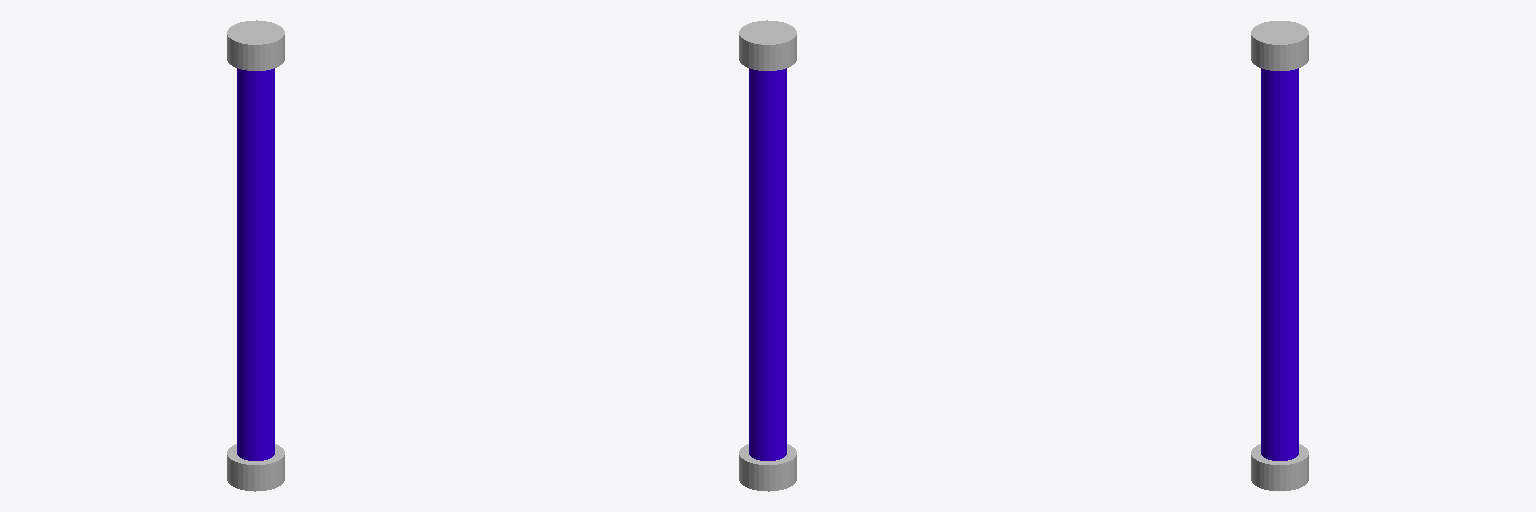
--- Facts derived from the render (not from the file) ---
The picture shows the robot from 3 angles, left to right: view 1: azimuth 30°, elevation 25°; view 2: azimuth 150°, elevation 25°; view 3: azimuth 270°, elevation 25°; orthographic projection.
Model soft_robot with 35 links and 34 joints (30 revolute, 4 fixed), rooted at base_link, posed all joints at 0.
Visible links, largest first — view 1: tip_link0, base_link; view 2: tip_link0, base_link; view 3: tip_link0, base_link.
Boxes of the visible links, x1,y1,x2,y2 form: tip_link0: [227, 20, 284, 70]; base_link: [227, 444, 284, 491]; tip_link0: [739, 20, 796, 70]; base_link: [739, 444, 796, 491]; tip_link0: [1251, 21, 1308, 70]; base_link: [1251, 444, 1308, 490].
Bounding box of the posed robot: 0.6 × 0.6 × 5.1 m (x, y, z).
Geometry: primitives only (box / cylinder / sphere), no mesh files.

The robot description file, URDF, robot "soft_robot":
<?xml version='1.0' encoding='utf-8'?>
<robot name="soft_robot">
  <link name="base_link">
    <visual>
      <origin rpy="0 0 0" xyz="0 0 0.15" />
      <geometry>
        <cylinder length="0.3" radius="0.3" />
      </geometry>
      <material name="grey">
        <color rgba="0.8 0.8 0.8 1" />
      </material>
    </visual>
    <collision>
      <origin rpy="0 0 0" xyz="0 0 0.15" />
      <geometry>
        <cylinder length="0.3" radius="0.3" />
      </geometry>
    </collision>
    <inertial>
      <mass value="0.1" />
      <inertia ixx="1" ixy="0" ixz="0" iyy="1" iyz="0" izz="1" />
      <origin rpy="0 0 0" xyz="0 0 0.15" />
    </inertial>
  </link>
  <link name="act0Seg0">
    <visual>
      <origin rpy="0 0 0" xyz="0 0 0.0375" />
      <geometry>
        <cylinder length="0.075" radius="0.2" />
      </geometry>
      <material name="blue">
        <color rgba="0.3 0.0 1 1.0" />
      </material>
    </visual>
    <collision>
      <origin rpy="0 0 0" xyz="0 0 0.0375" />
      <geometry>
        <cylinder length="0.075" radius="0.2" />
      </geometry>
    </collision>
    <inertial>
      <mass value="0.15" />
      <inertia ixx="1" ixy="0" ixz="0" iyy="1" iyz="0" izz="1" />
      <origin rpy="0 0 0" xyz="0 0 0.0375" />
    </inertial>
  </link>
  <joint name="base_link_to_act0Seg0" type="fixed">
    <parent link="base_link" />
    <child link="act0Seg0" />
    <origin rpy="0 0 0" xyz="0 0 0.3" />
    <axis xyz="1 0 0" />
  </joint>
  <link name="act0Seg1">
    <visual>
      <origin rpy="0 0 0" xyz="0 0 0.075" />
      <geometry>
        <cylinder length="0.15" radius="0.2" />
      </geometry>
      <material name="blue">
        <color rgba="0.3 0.0 1 1.0" />
      </material>
    </visual>
    <collision>
      <origin rpy="0 0 0" xyz="0 0 0.075" />
      <geometry>
        <cylinder length="0.15" radius="0.2" />
      </geometry>
    </collision>
    <inertial>
      <mass value="0.15" />
      <inertia ixx="1" ixy="0" ixz="0" iyy="1" iyz="0" izz="1" />
      <origin rpy="0 0 0" xyz="0 0 0.075" />
    </inertial>
  </link>
  <joint name="act0Seg0_to_act0Seg1_ax0" type="revolute">
    <parent link="act0Seg0" />
    <child link="act0Seg1" />
    <origin rpy="0 0 0" xyz="0 0 0.075" />
    <axis xyz="1 0 0" />
    <limit effort="100" lower="-3.141592" upper="3.141592" velocity="3" />
  </joint>
  <link name="act0Seg2">
    <visual>
      <origin rpy="0 0 0" xyz="0 0 0.075" />
      <geometry>
        <cylinder length="0.15" radius="0.2" />
      </geometry>
      <material name="blue">
        <color rgba="0.3 0.0 1 1.0" />
      </material>
    </visual>
    <collision>
      <origin rpy="0 0 0" xyz="0 0 0.075" />
      <geometry>
        <cylinder length="0.15" radius="0.2" />
      </geometry>
    </collision>
    <inertial>
      <mass value="0.15" />
      <inertia ixx="1" ixy="0" ixz="0" iyy="1" iyz="0" izz="1" />
      <origin rpy="0 0 0" xyz="0 0 0.075" />
    </inertial>
  </link>
  <joint name="act0Seg1_to_act0Seg2_ax1" type="revolute">
    <parent link="act0Seg1" />
    <child link="act0Seg2" />
    <origin rpy="0 0 0" xyz="0 0 0.15" />
    <axis xyz="0 1 0" />
    <limit effort="100" lower="-3.141592" upper="3.141592" velocity="3" />
  </joint>
  <link name="act0Seg3">
    <visual>
      <origin rpy="0 0 0" xyz="0 0 0.075" />
      <geometry>
        <cylinder length="0.15" radius="0.2" />
      </geometry>
      <material name="blue">
        <color rgba="0.3 0.0 1 1.0" />
      </material>
    </visual>
    <collision>
      <origin rpy="0 0 0" xyz="0 0 0.075" />
      <geometry>
        <cylinder length="0.15" radius="0.2" />
      </geometry>
    </collision>
    <inertial>
      <mass value="0.15" />
      <inertia ixx="1" ixy="0" ixz="0" iyy="1" iyz="0" izz="1" />
      <origin rpy="0 0 0" xyz="0 0 0.075" />
    </inertial>
  </link>
  <joint name="act0Seg2_to_act0Seg3_ax0" type="revolute">
    <parent link="act0Seg2" />
    <child link="act0Seg3" />
    <origin rpy="0 0 0" xyz="0 0 0.15" />
    <axis xyz="1 0 0" />
    <limit effort="100" lower="-3.141592" upper="3.141592" velocity="3" />
  </joint>
  <link name="act0Seg4">
    <visual>
      <origin rpy="0 0 0" xyz="0 0 0.075" />
      <geometry>
        <cylinder length="0.15" radius="0.2" />
      </geometry>
      <material name="blue">
        <color rgba="0.3 0.0 1 1.0" />
      </material>
    </visual>
    <collision>
      <origin rpy="0 0 0" xyz="0 0 0.075" />
      <geometry>
        <cylinder length="0.15" radius="0.2" />
      </geometry>
    </collision>
    <inertial>
      <mass value="0.15" />
      <inertia ixx="1" ixy="0" ixz="0" iyy="1" iyz="0" izz="1" />
      <origin rpy="0 0 0" xyz="0 0 0.075" />
    </inertial>
  </link>
  <joint name="act0Seg3_to_act0Seg4_ax1" type="revolute">
    <parent link="act0Seg3" />
    <child link="act0Seg4" />
    <origin rpy="0 0 0" xyz="0 0 0.15" />
    <axis xyz="0 1 0" />
    <limit effort="100" lower="-3.141592" upper="3.141592" velocity="3" />
  </joint>
  <link name="act0Seg5">
    <visual>
      <origin rpy="0 0 0" xyz="0 0 0.075" />
      <geometry>
        <cylinder length="0.15" radius="0.2" />
      </geometry>
      <material name="blue">
        <color rgba="0.3 0.0 1 1.0" />
      </material>
    </visual>
    <collision>
      <origin rpy="0 0 0" xyz="0 0 0.075" />
      <geometry>
        <cylinder length="0.15" radius="0.2" />
      </geometry>
    </collision>
    <inertial>
      <mass value="0.15" />
      <inertia ixx="1" ixy="0" ixz="0" iyy="1" iyz="0" izz="1" />
      <origin rpy="0 0 0" xyz="0 0 0.075" />
    </inertial>
  </link>
  <joint name="act0Seg4_to_act0Seg5_ax0" type="revolute">
    <parent link="act0Seg4" />
    <child link="act0Seg5" />
    <origin rpy="0 0 0" xyz="0 0 0.15" />
    <axis xyz="1 0 0" />
    <limit effort="100" lower="-3.141592" upper="3.141592" velocity="3" />
  </joint>
  <link name="act0Seg6">
    <visual>
      <origin rpy="0 0 0" xyz="0 0 0.075" />
      <geometry>
        <cylinder length="0.15" radius="0.2" />
      </geometry>
      <material name="blue">
        <color rgba="0.3 0.0 1 1.0" />
      </material>
    </visual>
    <collision>
      <origin rpy="0 0 0" xyz="0 0 0.075" />
      <geometry>
        <cylinder length="0.15" radius="0.2" />
      </geometry>
    </collision>
    <inertial>
      <mass value="0.15" />
      <inertia ixx="1" ixy="0" ixz="0" iyy="1" iyz="0" izz="1" />
      <origin rpy="0 0 0" xyz="0 0 0.075" />
    </inertial>
  </link>
  <joint name="act0Seg5_to_act0Seg6_ax1" type="revolute">
    <parent link="act0Seg5" />
    <child link="act0Seg6" />
    <origin rpy="0 0 0" xyz="0 0 0.15" />
    <axis xyz="0 1 0" />
    <limit effort="100" lower="-3.141592" upper="3.141592" velocity="3" />
  </joint>
  <link name="act0Seg7">
    <visual>
      <origin rpy="0 0 0" xyz="0 0 0.075" />
      <geometry>
        <cylinder length="0.15" radius="0.2" />
      </geometry>
      <material name="blue">
        <color rgba="0.3 0.0 1 1.0" />
      </material>
    </visual>
    <collision>
      <origin rpy="0 0 0" xyz="0 0 0.075" />
      <geometry>
        <cylinder length="0.15" radius="0.2" />
      </geometry>
    </collision>
    <inertial>
      <mass value="0.15" />
      <inertia ixx="1" ixy="0" ixz="0" iyy="1" iyz="0" izz="1" />
      <origin rpy="0 0 0" xyz="0 0 0.075" />
    </inertial>
  </link>
  <joint name="act0Seg6_to_act0Seg7_ax0" type="revolute">
    <parent link="act0Seg6" />
    <child link="act0Seg7" />
    <origin rpy="0 0 0" xyz="0 0 0.15" />
    <axis xyz="1 0 0" />
    <limit effort="100" lower="-3.141592" upper="3.141592" velocity="3" />
  </joint>
  <link name="act0Seg8">
    <visual>
      <origin rpy="0 0 0" xyz="0 0 0.075" />
      <geometry>
        <cylinder length="0.15" radius="0.2" />
      </geometry>
      <material name="blue">
        <color rgba="0.3 0.0 1 1.0" />
      </material>
    </visual>
    <collision>
      <origin rpy="0 0 0" xyz="0 0 0.075" />
      <geometry>
        <cylinder length="0.15" radius="0.2" />
      </geometry>
    </collision>
    <inertial>
      <mass value="0.15" />
      <inertia ixx="1" ixy="0" ixz="0" iyy="1" iyz="0" izz="1" />
      <origin rpy="0 0 0" xyz="0 0 0.075" />
    </inertial>
  </link>
  <joint name="act0Seg7_to_act0Seg8_ax1" type="revolute">
    <parent link="act0Seg7" />
    <child link="act0Seg8" />
    <origin rpy="0 0 0" xyz="0 0 0.15" />
    <axis xyz="0 1 0" />
    <limit effort="100" lower="-3.141592" upper="3.141592" velocity="3" />
  </joint>
  <link name="act0Seg9">
    <visual>
      <origin rpy="0 0 0" xyz="0 0 0.075" />
      <geometry>
        <cylinder length="0.15" radius="0.2" />
      </geometry>
      <material name="blue">
        <color rgba="0.3 0.0 1 1.0" />
      </material>
    </visual>
    <collision>
      <origin rpy="0 0 0" xyz="0 0 0.075" />
      <geometry>
        <cylinder length="0.15" radius="0.2" />
      </geometry>
    </collision>
    <inertial>
      <mass value="0.15" />
      <inertia ixx="1" ixy="0" ixz="0" iyy="1" iyz="0" izz="1" />
      <origin rpy="0 0 0" xyz="0 0 0.075" />
    </inertial>
  </link>
  <joint name="act0Seg8_to_act0Seg9_ax0" type="revolute">
    <parent link="act0Seg8" />
    <child link="act0Seg9" />
    <origin rpy="0 0 0" xyz="0 0 0.15" />
    <axis xyz="1 0 0" />
    <limit effort="100" lower="-3.141592" upper="3.141592" velocity="3" />
  </joint>
  <link name="act0Seg10">
    <visual>
      <origin rpy="0 0 0" xyz="0 0 0.0375" />
      <geometry>
        <cylinder length="0.075" radius="0.2" />
      </geometry>
      <material name="blue">
        <color rgba="0.3 0.0 1 1.0" />
      </material>
    </visual>
    <collision>
      <origin rpy="0 0 0" xyz="0 0 0.0375" />
      <geometry>
        <cylinder length="0.075" radius="0.2" />
      </geometry>
    </collision>
    <inertial>
      <mass value="0.15" />
      <inertia ixx="1" ixy="0" ixz="0" iyy="1" iyz="0" izz="1" />
      <origin rpy="0 0 0" xyz="0 0 0.0375" />
    </inertial>
  </link>
  <joint name="act0Seg9_to_act0Seg10_ax1" type="revolute">
    <parent link="act0Seg9" />
    <child link="act0Seg10" />
    <origin rpy="0 0 0" xyz="0 0 0.15" />
    <axis xyz="0 1 0" />
    <limit effort="100" lower="-3.141592" upper="3.141592" velocity="3" />
  </joint>
  <link name="act1Seg0">
    <visual>
      <origin rpy="0 0 0" xyz="0 0 0.0375" />
      <geometry>
        <cylinder length="0.075" radius="0.2" />
      </geometry>
      <material name="red">
        <color rgba="0.3 0.0 1 1.0" />
      </material>
    </visual>
    <collision>
      <origin rpy="0 0 0" xyz="0 0 0.0375" />
      <geometry>
        <cylinder length="0.075" radius="0.2" />
      </geometry>
    </collision>
    <inertial>
      <mass value="0.15" />
      <inertia ixx="1" ixy="0" ixz="0" iyy="1" iyz="0" izz="1" />
      <origin rpy="0 0 0" xyz="0 0 0.0375" />
    </inertial>
  </link>
  <joint name="act0Seg10_to_act1Seg0_ax1" type="fixed">
    <parent link="act0Seg10" />
    <child link="act1Seg0" />
    <origin rpy="0 0 0" xyz="0 0 0.075" />
    <axis xyz="0 1 0" />
    <limit effort="100" lower="-3.141592" upper="3.141592" velocity="3" />
  </joint>
  <link name="act1Seg1">
    <visual>
      <origin rpy="0 0 0" xyz="0 0 0.075" />
      <geometry>
        <cylinder length="0.15" radius="0.2" />
      </geometry>
      <material name="red">
        <color rgba="0.3 0.0 1 1.0" />
      </material>
    </visual>
    <collision>
      <origin rpy="0 0 0" xyz="0 0 0.075" />
      <geometry>
        <cylinder length="0.15" radius="0.2" />
      </geometry>
    </collision>
    <inertial>
      <mass value="0.15" />
      <inertia ixx="1" ixy="0" ixz="0" iyy="1" iyz="0" izz="1" />
      <origin rpy="0 0 0" xyz="0 0 0.075" />
    </inertial>
  </link>
  <joint name="act1Seg0_to_act1Seg1_ax0" type="revolute">
    <parent link="act1Seg0" />
    <child link="act1Seg1" />
    <origin rpy="0 0 0" xyz="0 0 0.075" />
    <axis xyz="1 0 0" />
    <limit effort="100" lower="-3.141592" upper="3.141592" velocity="3" />
  </joint>
  <link name="act1Seg2">
    <visual>
      <origin rpy="0 0 0" xyz="0 0 0.075" />
      <geometry>
        <cylinder length="0.15" radius="0.2" />
      </geometry>
      <material name="red">
        <color rgba="0.3 0.0 1 1.0" />
      </material>
    </visual>
    <collision>
      <origin rpy="0 0 0" xyz="0 0 0.075" />
      <geometry>
        <cylinder length="0.15" radius="0.2" />
      </geometry>
    </collision>
    <inertial>
      <mass value="0.15" />
      <inertia ixx="1" ixy="0" ixz="0" iyy="1" iyz="0" izz="1" />
      <origin rpy="0 0 0" xyz="0 0 0.075" />
    </inertial>
  </link>
  <joint name="act1Seg1_to_act1Seg2_ax1" type="revolute">
    <parent link="act1Seg1" />
    <child link="act1Seg2" />
    <origin rpy="0 0 0" xyz="0 0 0.15" />
    <axis xyz="0 1 0" />
    <limit effort="100" lower="-3.141592" upper="3.141592" velocity="3" />
  </joint>
  <link name="act1Seg3">
    <visual>
      <origin rpy="0 0 0" xyz="0 0 0.075" />
      <geometry>
        <cylinder length="0.15" radius="0.2" />
      </geometry>
      <material name="red">
        <color rgba="0.3 0.0 1 1.0" />
      </material>
    </visual>
    <collision>
      <origin rpy="0 0 0" xyz="0 0 0.075" />
      <geometry>
        <cylinder length="0.15" radius="0.2" />
      </geometry>
    </collision>
    <inertial>
      <mass value="0.15" />
      <inertia ixx="1" ixy="0" ixz="0" iyy="1" iyz="0" izz="1" />
      <origin rpy="0 0 0" xyz="0 0 0.075" />
    </inertial>
  </link>
  <joint name="act1Seg2_to_act1Seg3_ax0" type="revolute">
    <parent link="act1Seg2" />
    <child link="act1Seg3" />
    <origin rpy="0 0 0" xyz="0 0 0.15" />
    <axis xyz="1 0 0" />
    <limit effort="100" lower="-3.141592" upper="3.141592" velocity="3" />
  </joint>
  <link name="act1Seg4">
    <visual>
      <origin rpy="0 0 0" xyz="0 0 0.075" />
      <geometry>
        <cylinder length="0.15" radius="0.2" />
      </geometry>
      <material name="red">
        <color rgba="0.3 0.0 1 1.0" />
      </material>
    </visual>
    <collision>
      <origin rpy="0 0 0" xyz="0 0 0.075" />
      <geometry>
        <cylinder length="0.15" radius="0.2" />
      </geometry>
    </collision>
    <inertial>
      <mass value="0.15" />
      <inertia ixx="1" ixy="0" ixz="0" iyy="1" iyz="0" izz="1" />
      <origin rpy="0 0 0" xyz="0 0 0.075" />
    </inertial>
  </link>
  <joint name="act1Seg3_to_act1Seg4_ax1" type="revolute">
    <parent link="act1Seg3" />
    <child link="act1Seg4" />
    <origin rpy="0 0 0" xyz="0 0 0.15" />
    <axis xyz="0 1 0" />
    <limit effort="100" lower="-3.141592" upper="3.141592" velocity="3" />
  </joint>
  <link name="act1Seg5">
    <visual>
      <origin rpy="0 0 0" xyz="0 0 0.075" />
      <geometry>
        <cylinder length="0.15" radius="0.2" />
      </geometry>
      <material name="red">
        <color rgba="0.3 0.0 1 1.0" />
      </material>
    </visual>
    <collision>
      <origin rpy="0 0 0" xyz="0 0 0.075" />
      <geometry>
        <cylinder length="0.15" radius="0.2" />
      </geometry>
    </collision>
    <inertial>
      <mass value="0.15" />
      <inertia ixx="1" ixy="0" ixz="0" iyy="1" iyz="0" izz="1" />
      <origin rpy="0 0 0" xyz="0 0 0.075" />
    </inertial>
  </link>
  <joint name="act1Seg4_to_act1Seg5_ax0" type="revolute">
    <parent link="act1Seg4" />
    <child link="act1Seg5" />
    <origin rpy="0 0 0" xyz="0 0 0.15" />
    <axis xyz="1 0 0" />
    <limit effort="100" lower="-3.141592" upper="3.141592" velocity="3" />
  </joint>
  <link name="act1Seg6">
    <visual>
      <origin rpy="0 0 0" xyz="0 0 0.075" />
      <geometry>
        <cylinder length="0.15" radius="0.2" />
      </geometry>
      <material name="red">
        <color rgba="0.3 0.0 1 1.0" />
      </material>
    </visual>
    <collision>
      <origin rpy="0 0 0" xyz="0 0 0.075" />
      <geometry>
        <cylinder length="0.15" radius="0.2" />
      </geometry>
    </collision>
    <inertial>
      <mass value="0.15" />
      <inertia ixx="1" ixy="0" ixz="0" iyy="1" iyz="0" izz="1" />
      <origin rpy="0 0 0" xyz="0 0 0.075" />
    </inertial>
  </link>
  <joint name="act1Seg5_to_act1Seg6_ax1" type="revolute">
    <parent link="act1Seg5" />
    <child link="act1Seg6" />
    <origin rpy="0 0 0" xyz="0 0 0.15" />
    <axis xyz="0 1 0" />
    <limit effort="100" lower="-3.141592" upper="3.141592" velocity="3" />
  </joint>
  <link name="act1Seg7">
    <visual>
      <origin rpy="0 0 0" xyz="0 0 0.075" />
      <geometry>
        <cylinder length="0.15" radius="0.2" />
      </geometry>
      <material name="red">
        <color rgba="0.3 0.0 1 1.0" />
      </material>
    </visual>
    <collision>
      <origin rpy="0 0 0" xyz="0 0 0.075" />
      <geometry>
        <cylinder length="0.15" radius="0.2" />
      </geometry>
    </collision>
    <inertial>
      <mass value="0.15" />
      <inertia ixx="1" ixy="0" ixz="0" iyy="1" iyz="0" izz="1" />
      <origin rpy="0 0 0" xyz="0 0 0.075" />
    </inertial>
  </link>
  <joint name="act1Seg6_to_act1Seg7_ax0" type="revolute">
    <parent link="act1Seg6" />
    <child link="act1Seg7" />
    <origin rpy="0 0 0" xyz="0 0 0.15" />
    <axis xyz="1 0 0" />
    <limit effort="100" lower="-3.141592" upper="3.141592" velocity="3" />
  </joint>
  <link name="act1Seg8">
    <visual>
      <origin rpy="0 0 0" xyz="0 0 0.075" />
      <geometry>
        <cylinder length="0.15" radius="0.2" />
      </geometry>
      <material name="red">
        <color rgba="0.3 0.0 1 1.0" />
      </material>
    </visual>
    <collision>
      <origin rpy="0 0 0" xyz="0 0 0.075" />
      <geometry>
        <cylinder length="0.15" radius="0.2" />
      </geometry>
    </collision>
    <inertial>
      <mass value="0.15" />
      <inertia ixx="1" ixy="0" ixz="0" iyy="1" iyz="0" izz="1" />
      <origin rpy="0 0 0" xyz="0 0 0.075" />
    </inertial>
  </link>
  <joint name="act1Seg7_to_act1Seg8_ax1" type="revolute">
    <parent link="act1Seg7" />
    <child link="act1Seg8" />
    <origin rpy="0 0 0" xyz="0 0 0.15" />
    <axis xyz="0 1 0" />
    <limit effort="100" lower="-3.141592" upper="3.141592" velocity="3" />
  </joint>
  <link name="act1Seg9">
    <visual>
      <origin rpy="0 0 0" xyz="0 0 0.075" />
      <geometry>
        <cylinder length="0.15" radius="0.2" />
      </geometry>
      <material name="red">
        <color rgba="0.3 0.0 1 1.0" />
      </material>
    </visual>
    <collision>
      <origin rpy="0 0 0" xyz="0 0 0.075" />
      <geometry>
        <cylinder length="0.15" radius="0.2" />
      </geometry>
    </collision>
    <inertial>
      <mass value="0.15" />
      <inertia ixx="1" ixy="0" ixz="0" iyy="1" iyz="0" izz="1" />
      <origin rpy="0 0 0" xyz="0 0 0.075" />
    </inertial>
  </link>
  <joint name="act1Seg8_to_act1Seg9_ax0" type="revolute">
    <parent link="act1Seg8" />
    <child link="act1Seg9" />
    <origin rpy="0 0 0" xyz="0 0 0.15" />
    <axis xyz="1 0 0" />
    <limit effort="100" lower="-3.141592" upper="3.141592" velocity="3" />
  </joint>
  <link name="act1Seg10">
    <visual>
      <origin rpy="0 0 0" xyz="0 0 0.0375" />
      <geometry>
        <cylinder length="0.075" radius="0.2" />
      </geometry>
      <material name="red">
        <color rgba="0.3 0.0 1 1.0" />
      </material>
    </visual>
    <collision>
      <origin rpy="0 0 0" xyz="0 0 0.0375" />
      <geometry>
        <cylinder length="0.075" radius="0.2" />
      </geometry>
    </collision>
    <inertial>
      <mass value="0.15" />
      <inertia ixx="1" ixy="0" ixz="0" iyy="1" iyz="0" izz="1" />
      <origin rpy="0 0 0" xyz="0 0 0.0375" />
    </inertial>
  </link>
  <joint name="act1Seg9_to_act1Seg10_ax1" type="revolute">
    <parent link="act1Seg9" />
    <child link="act1Seg10" />
    <origin rpy="0 0 0" xyz="0 0 0.15" />
    <axis xyz="0 1 0" />
    <limit effort="100" lower="-3.141592" upper="3.141592" velocity="3" />
  </joint>
  <link name="act2Seg0">
    <visual>
      <origin rpy="0 0 0" xyz="0 0 0.0375" />
      <geometry>
        <cylinder length="0.075" radius="0.2" />
      </geometry>
      <material name="blue">
        <color rgba="0.3 0.0 1 1.0" />
      </material>
    </visual>
    <collision>
      <origin rpy="0 0 0" xyz="0 0 0.0375" />
      <geometry>
        <cylinder length="0.075" radius="0.2" />
      </geometry>
    </collision>
    <inertial>
      <mass value="0.15" />
      <inertia ixx="1" ixy="0" ixz="0" iyy="1" iyz="0" izz="1" />
      <origin rpy="0 0 0" xyz="0 0 0.0375" />
    </inertial>
  </link>
  <joint name="act1Seg10_to_act2Seg0_ax1" type="fixed">
    <parent link="act1Seg10" />
    <child link="act2Seg0" />
    <origin rpy="0 0 0" xyz="0 0 0.075" />
    <axis xyz="0 1 0" />
    <limit effort="100" lower="-3.141592" upper="3.141592" velocity="3" />
  </joint>
  <link name="act2Seg1">
    <visual>
      <origin rpy="0 0 0" xyz="0 0 0.075" />
      <geometry>
        <cylinder length="0.15" radius="0.2" />
      </geometry>
      <material name="blue">
        <color rgba="0.3 0.0 1 1.0" />
      </material>
    </visual>
    <collision>
      <origin rpy="0 0 0" xyz="0 0 0.075" />
      <geometry>
        <cylinder length="0.15" radius="0.2" />
      </geometry>
    </collision>
    <inertial>
      <mass value="0.15" />
      <inertia ixx="1" ixy="0" ixz="0" iyy="1" iyz="0" izz="1" />
      <origin rpy="0 0 0" xyz="0 0 0.075" />
    </inertial>
  </link>
  <joint name="act2Seg0_to_act2Seg1_ax0" type="revolute">
    <parent link="act2Seg0" />
    <child link="act2Seg1" />
    <origin rpy="0 0 0" xyz="0 0 0.075" />
    <axis xyz="1 0 0" />
    <limit effort="100" lower="-3.141592" upper="3.141592" velocity="3" />
  </joint>
  <link name="act2Seg2">
    <visual>
      <origin rpy="0 0 0" xyz="0 0 0.075" />
      <geometry>
        <cylinder length="0.15" radius="0.2" />
      </geometry>
      <material name="blue">
        <color rgba="0.3 0.0 1 1.0" />
      </material>
    </visual>
    <collision>
      <origin rpy="0 0 0" xyz="0 0 0.075" />
      <geometry>
        <cylinder length="0.15" radius="0.2" />
      </geometry>
    </collision>
    <inertial>
      <mass value="0.15" />
      <inertia ixx="1" ixy="0" ixz="0" iyy="1" iyz="0" izz="1" />
      <origin rpy="0 0 0" xyz="0 0 0.075" />
    </inertial>
  </link>
  <joint name="act2Seg1_to_act2Seg2_ax1" type="revolute">
    <parent link="act2Seg1" />
    <child link="act2Seg2" />
    <origin rpy="0 0 0" xyz="0 0 0.15" />
    <axis xyz="0 1 0" />
    <limit effort="100" lower="-3.141592" upper="3.141592" velocity="3" />
  </joint>
  <link name="act2Seg3">
    <visual>
      <origin rpy="0 0 0" xyz="0 0 0.075" />
      <geometry>
        <cylinder length="0.15" radius="0.2" />
      </geometry>
      <material name="blue">
        <color rgba="0.3 0.0 1 1.0" />
      </material>
    </visual>
    <collision>
      <origin rpy="0 0 0" xyz="0 0 0.075" />
      <geometry>
        <cylinder length="0.15" radius="0.2" />
      </geometry>
    </collision>
    <inertial>
      <mass value="0.15" />
      <inertia ixx="1" ixy="0" ixz="0" iyy="1" iyz="0" izz="1" />
      <origin rpy="0 0 0" xyz="0 0 0.075" />
    </inertial>
  </link>
  <joint name="act2Seg2_to_act2Seg3_ax0" type="revolute">
    <parent link="act2Seg2" />
    <child link="act2Seg3" />
    <origin rpy="0 0 0" xyz="0 0 0.15" />
    <axis xyz="1 0 0" />
    <limit effort="100" lower="-3.141592" upper="3.141592" velocity="3" />
  </joint>
  <link name="act2Seg4">
    <visual>
      <origin rpy="0 0 0" xyz="0 0 0.075" />
      <geometry>
        <cylinder length="0.15" radius="0.2" />
      </geometry>
      <material name="blue">
        <color rgba="0.3 0.0 1 1.0" />
      </material>
    </visual>
    <collision>
      <origin rpy="0 0 0" xyz="0 0 0.075" />
      <geometry>
        <cylinder length="0.15" radius="0.2" />
      </geometry>
    </collision>
    <inertial>
      <mass value="0.15" />
      <inertia ixx="1" ixy="0" ixz="0" iyy="1" iyz="0" izz="1" />
      <origin rpy="0 0 0" xyz="0 0 0.075" />
    </inertial>
  </link>
  <joint name="act2Seg3_to_act2Seg4_ax1" type="revolute">
    <parent link="act2Seg3" />
    <child link="act2Seg4" />
    <origin rpy="0 0 0" xyz="0 0 0.15" />
    <axis xyz="0 1 0" />
    <limit effort="100" lower="-3.141592" upper="3.141592" velocity="3" />
  </joint>
  <link name="act2Seg5">
    <visual>
      <origin rpy="0 0 0" xyz="0 0 0.075" />
      <geometry>
        <cylinder length="0.15" radius="0.2" />
      </geometry>
      <material name="blue">
        <color rgba="0.3 0.0 1 1.0" />
      </material>
    </visual>
    <collision>
      <origin rpy="0 0 0" xyz="0 0 0.075" />
      <geometry>
        <cylinder length="0.15" radius="0.2" />
      </geometry>
    </collision>
    <inertial>
      <mass value="0.15" />
      <inertia ixx="1" ixy="0" ixz="0" iyy="1" iyz="0" izz="1" />
      <origin rpy="0 0 0" xyz="0 0 0.075" />
    </inertial>
  </link>
  <joint name="act2Seg4_to_act2Seg5_ax0" type="revolute">
    <parent link="act2Seg4" />
    <child link="act2Seg5" />
    <origin rpy="0 0 0" xyz="0 0 0.15" />
    <axis xyz="1 0 0" />
    <limit effort="100" lower="-3.141592" upper="3.141592" velocity="3" />
  </joint>
  <link name="act2Seg6">
    <visual>
      <origin rpy="0 0 0" xyz="0 0 0.075" />
      <geometry>
        <cylinder length="0.15" radius="0.2" />
      </geometry>
      <material name="blue">
        <color rgba="0.3 0.0 1 1.0" />
      </material>
    </visual>
    <collision>
      <origin rpy="0 0 0" xyz="0 0 0.075" />
      <geometry>
        <cylinder length="0.15" radius="0.2" />
      </geometry>
    </collision>
    <inertial>
      <mass value="0.15" />
      <inertia ixx="1" ixy="0" ixz="0" iyy="1" iyz="0" izz="1" />
      <origin rpy="0 0 0" xyz="0 0 0.075" />
    </inertial>
  </link>
  <joint name="act2Seg5_to_act2Seg6_ax1" type="revolute">
    <parent link="act2Seg5" />
    <child link="act2Seg6" />
    <origin rpy="0 0 0" xyz="0 0 0.15" />
    <axis xyz="0 1 0" />
    <limit effort="100" lower="-3.141592" upper="3.141592" velocity="3" />
  </joint>
  <link name="act2Seg7">
    <visual>
      <origin rpy="0 0 0" xyz="0 0 0.075" />
      <geometry>
        <cylinder length="0.15" radius="0.2" />
      </geometry>
      <material name="blue">
        <color rgba="0.3 0.0 1 1.0" />
      </material>
    </visual>
    <collision>
      <origin rpy="0 0 0" xyz="0 0 0.075" />
      <geometry>
        <cylinder length="0.15" radius="0.2" />
      </geometry>
    </collision>
    <inertial>
      <mass value="0.15" />
      <inertia ixx="1" ixy="0" ixz="0" iyy="1" iyz="0" izz="1" />
      <origin rpy="0 0 0" xyz="0 0 0.075" />
    </inertial>
  </link>
  <joint name="act2Seg6_to_act2Seg7_ax0" type="revolute">
    <parent link="act2Seg6" />
    <child link="act2Seg7" />
    <origin rpy="0 0 0" xyz="0 0 0.15" />
    <axis xyz="1 0 0" />
    <limit effort="100" lower="-3.141592" upper="3.141592" velocity="3" />
  </joint>
  <link name="act2Seg8">
    <visual>
      <origin rpy="0 0 0" xyz="0 0 0.075" />
      <geometry>
        <cylinder length="0.15" radius="0.2" />
      </geometry>
      <material name="blue">
        <color rgba="0.3 0.0 1 1.0" />
      </material>
    </visual>
    <collision>
      <origin rpy="0 0 0" xyz="0 0 0.075" />
      <geometry>
        <cylinder length="0.15" radius="0.2" />
      </geometry>
    </collision>
    <inertial>
      <mass value="0.15" />
      <inertia ixx="1" ixy="0" ixz="0" iyy="1" iyz="0" izz="1" />
      <origin rpy="0 0 0" xyz="0 0 0.075" />
    </inertial>
  </link>
  <joint name="act2Seg7_to_act2Seg8_ax1" type="revolute">
    <parent link="act2Seg7" />
    <child link="act2Seg8" />
    <origin rpy="0 0 0" xyz="0 0 0.15" />
    <axis xyz="0 1 0" />
    <limit effort="100" lower="-3.141592" upper="3.141592" velocity="3" />
  </joint>
  <link name="act2Seg9">
    <visual>
      <origin rpy="0 0 0" xyz="0 0 0.075" />
      <geometry>
        <cylinder length="0.15" radius="0.2" />
      </geometry>
      <material name="blue">
        <color rgba="0.3 0.0 1 1.0" />
      </material>
    </visual>
    <collision>
      <origin rpy="0 0 0" xyz="0 0 0.075" />
      <geometry>
        <cylinder length="0.15" radius="0.2" />
      </geometry>
    </collision>
    <inertial>
      <mass value="0.15" />
      <inertia ixx="1" ixy="0" ixz="0" iyy="1" iyz="0" izz="1" />
      <origin rpy="0 0 0" xyz="0 0 0.075" />
    </inertial>
  </link>
  <joint name="act2Seg8_to_act2Seg9_ax0" type="revolute">
    <parent link="act2Seg8" />
    <child link="act2Seg9" />
    <origin rpy="0 0 0" xyz="0 0 0.15" />
    <axis xyz="1 0 0" />
    <limit effort="100" lower="-3.141592" upper="3.141592" velocity="3" />
  </joint>
  <link name="act2Seg10">
    <visual>
      <origin rpy="0 0 0" xyz="0 0 0.0375" />
      <geometry>
        <cylinder length="0.075" radius="0.2" />
      </geometry>
      <material name="blue">
        <color rgba="0.3 0.0 1 1.0" />
      </material>
    </visual>
    <collision>
      <origin rpy="0 0 0" xyz="0 0 0.0375" />
      <geometry>
        <cylinder length="0.075" radius="0.2" />
      </geometry>
    </collision>
    <inertial>
      <mass value="0.15" />
      <inertia ixx="1" ixy="0" ixz="0" iyy="1" iyz="0" izz="1" />
      <origin rpy="0 0 0" xyz="0 0 0.0375" />
    </inertial>
  </link>
  <joint name="act2Seg9_to_act2Seg10_ax1" type="revolute">
    <parent link="act2Seg9" />
    <child link="act2Seg10" />
    <origin rpy="0 0 0" xyz="0 0 0.15" />
    <axis xyz="0 1 0" />
    <limit effort="100" lower="-3.141592" upper="3.141592" velocity="3" />
  </joint>
  <link name="tip_link0">
    <visual>
      <origin rpy="0 0 0" xyz="0 0 0.15" />
      <geometry>
        <cylinder length="0.3" radius="0.3" />
      </geometry>
      <material name="grey">
        <color rgba="0.8 0.8 0.8 1" />
      </material>
    </visual>
    <collision>
      <origin rpy="0 0 0" xyz="0 0 0.15" />
      <geometry>
        <cylinder length="0.3" radius="0.3" />
      </geometry>
    </collision>
    <inertial>
      <mass value="0.1" />
      <inertia ixx="1" ixy="0" ixz="0" iyy="1" iyz="0" izz="1" />
      <origin rpy="0 0 0" xyz="0 0 0.15" />
    </inertial>
  </link>
  <joint name="act2Seg10_to_tip_link0" type="fixed">
    <parent link="act2Seg10" />
    <child link="tip_link0" />
    <origin rpy="0 0 0" xyz="0 0 0.075" />
    <axis xyz="1 0 0" />
  </joint>
</robot>
